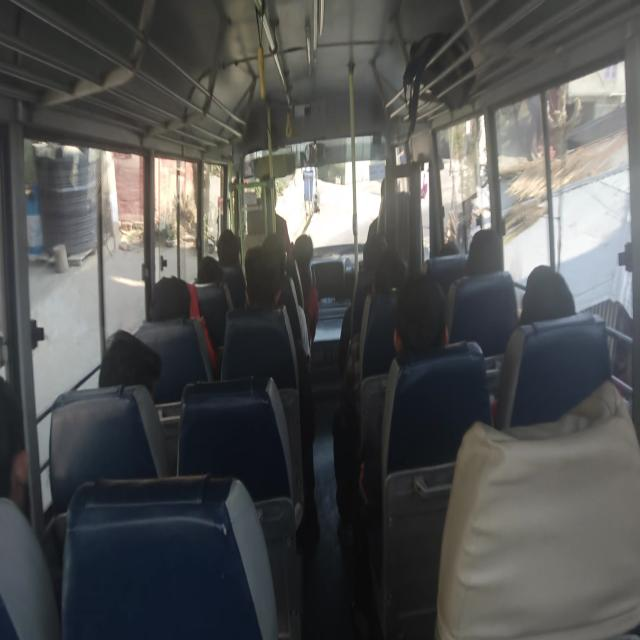person: (386, 277, 457, 375), (515, 262, 585, 350), (0, 378, 35, 527), (101, 323, 160, 406), (146, 270, 198, 332), (467, 220, 513, 286), (240, 245, 280, 314), (290, 226, 324, 277), (373, 252, 407, 295), (356, 223, 392, 263), (257, 174, 285, 224), (375, 170, 403, 217), (192, 251, 222, 292), (259, 230, 293, 265), (434, 231, 468, 265), (215, 227, 238, 261)
